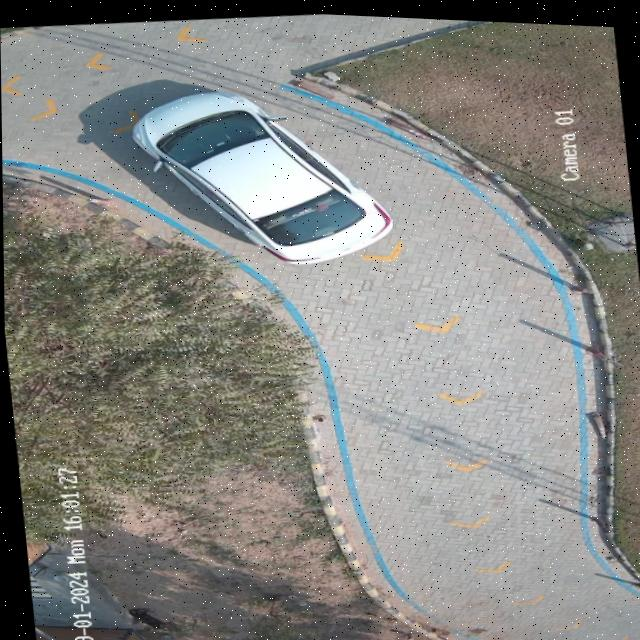car: (133, 89, 391, 261)
